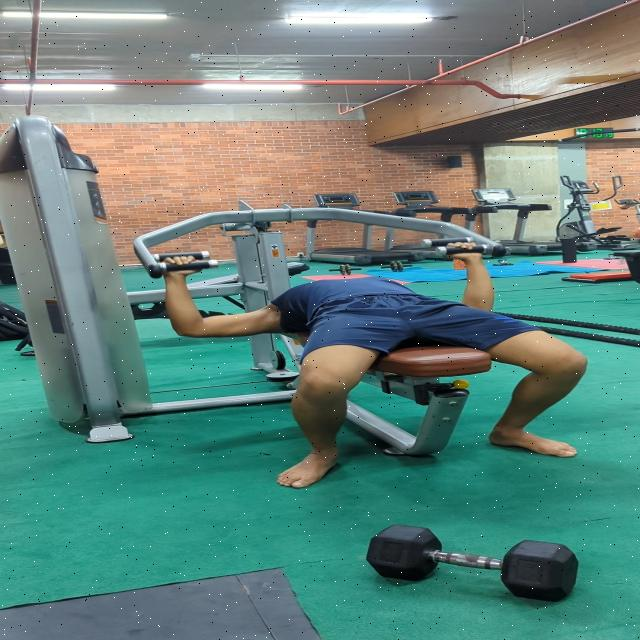Normal_BrenchPress: (108, 225, 640, 484)
